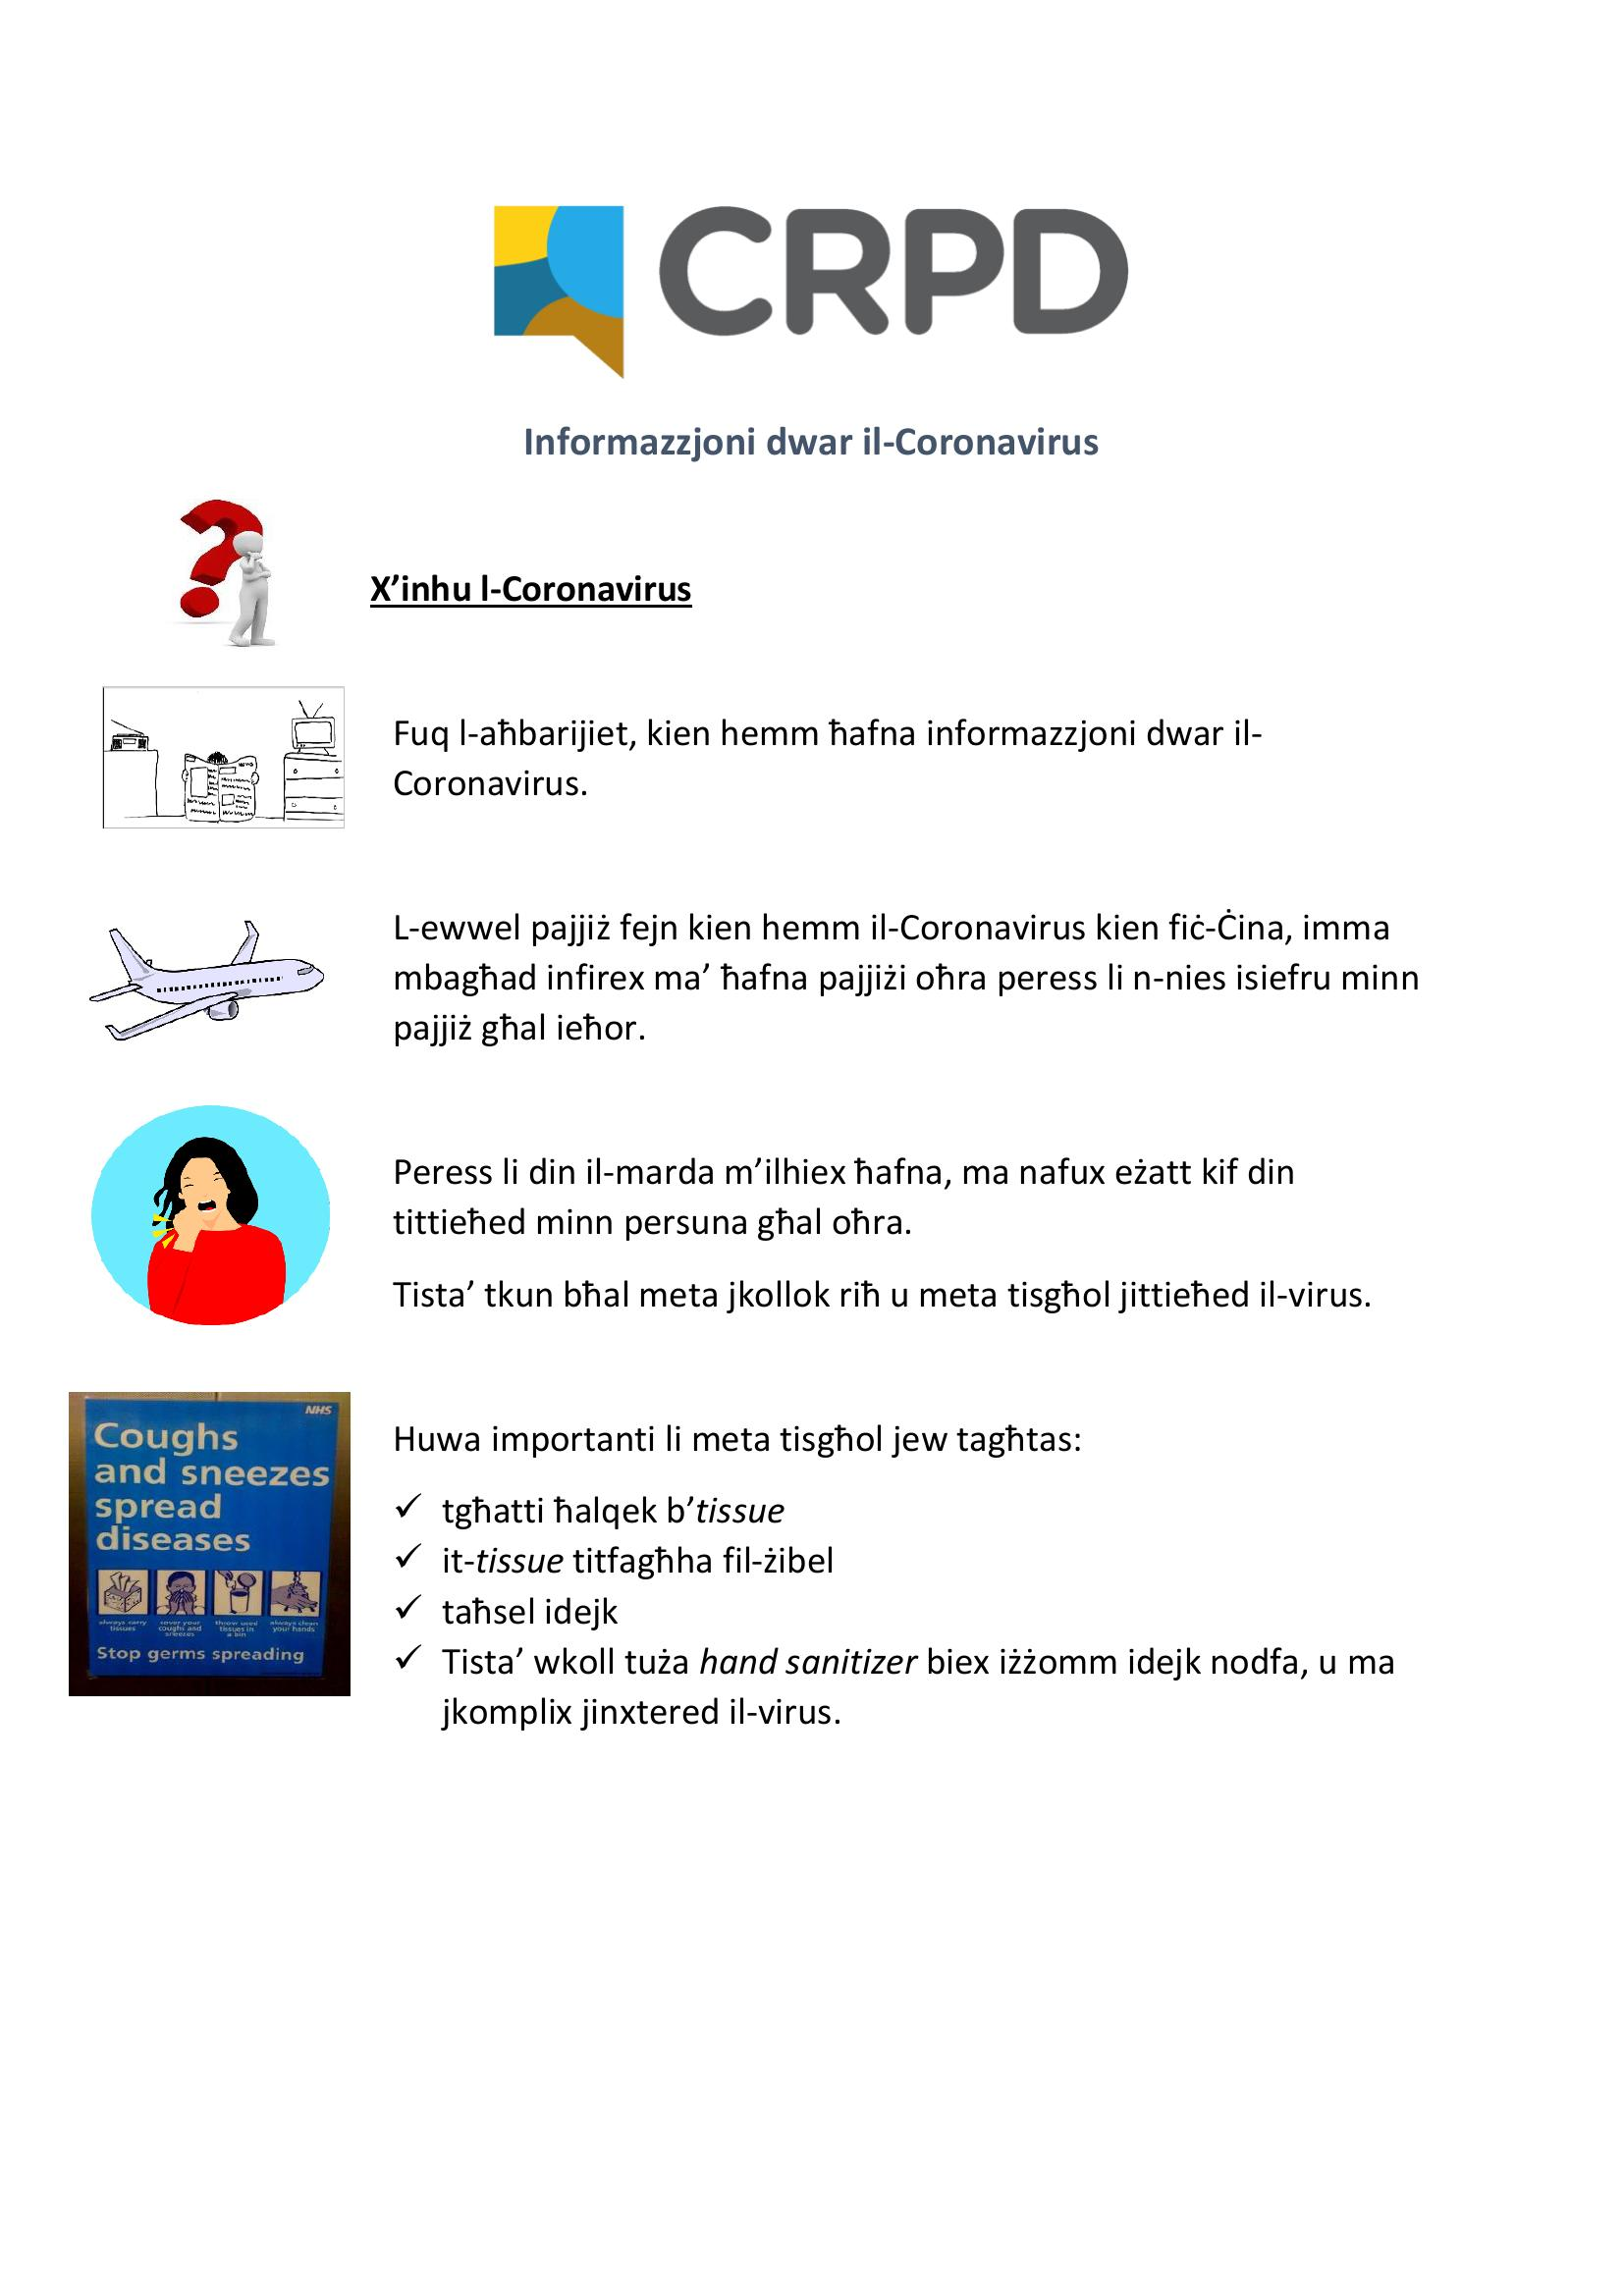text: (355, 409, 1455, 1781)
